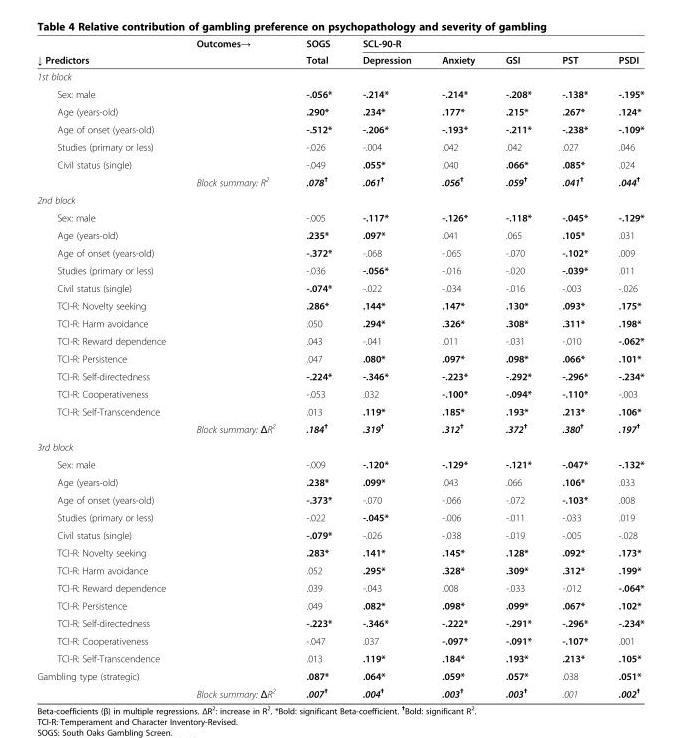table: (36, 37, 643, 699)
table column: (36, 37, 180, 699), (180, 37, 290, 699), (346, 37, 425, 699), (425, 37, 489, 699), (489, 37, 546, 699), (290, 37, 346, 699), (546, 37, 602, 699), (602, 37, 643, 699)
table column header: (36, 37, 643, 67)
table projected row header: (36, 190, 643, 208), (36, 437, 643, 455), (36, 67, 643, 84)
table row: (36, 84, 643, 102), (36, 102, 643, 120), (36, 137, 643, 155), (36, 172, 643, 190), (36, 190, 643, 208), (36, 208, 643, 226), (36, 243, 643, 261), (36, 278, 643, 296), (36, 296, 643, 314), (36, 331, 643, 349), (36, 349, 643, 367), (36, 384, 643, 402), (36, 419, 643, 437), (36, 437, 643, 455), (36, 472, 643, 490), (36, 490, 643, 508), (36, 525, 643, 543), (36, 543, 643, 561), (36, 578, 643, 596), (36, 596, 643, 614), (36, 631, 643, 649), (36, 67, 643, 84), (36, 120, 643, 137), (36, 155, 643, 172), (36, 226, 643, 243), (36, 261, 643, 278), (36, 314, 643, 331), (36, 367, 643, 384), (36, 402, 643, 419), (36, 455, 643, 472), (36, 508, 643, 525), (36, 561, 643, 578), (36, 614, 643, 631), (36, 649, 643, 666), (36, 666, 643, 683), (36, 51, 643, 67), (36, 683, 643, 699), (36, 37, 643, 51)
table spanning cell: (36, 155, 180, 190), (36, 402, 180, 437), (36, 666, 180, 699), (36, 37, 180, 67), (346, 37, 643, 51), (180, 37, 290, 67), (290, 37, 346, 67)
